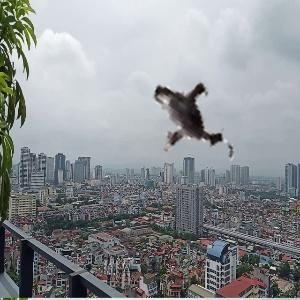drone: (113, 55, 249, 191)
